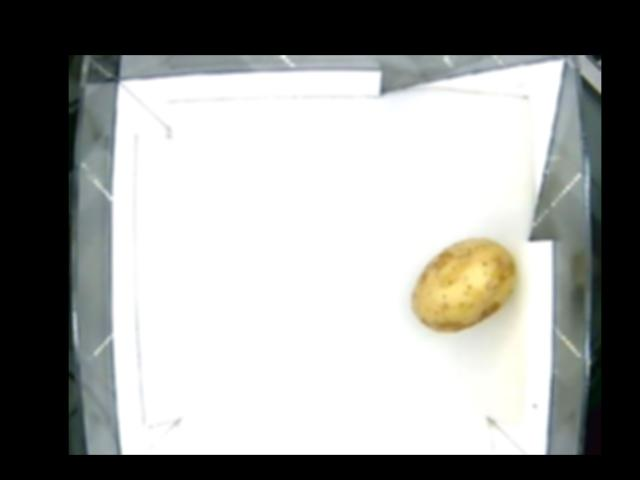Potato: (407, 239, 518, 335)
